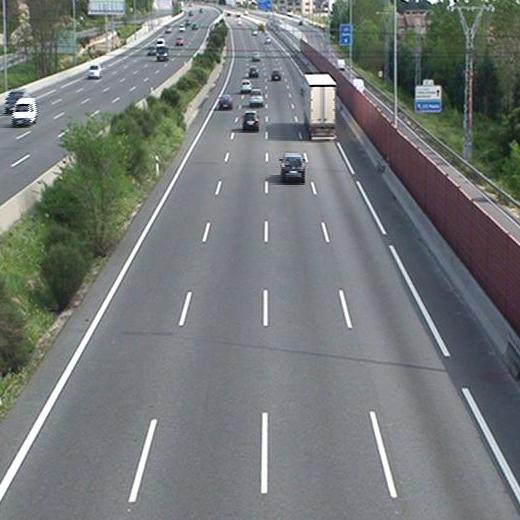car: (279, 153, 306, 181), (241, 111, 261, 132), (249, 90, 265, 106), (219, 95, 234, 111), (270, 69, 283, 83), (239, 79, 252, 92), (248, 66, 260, 77), (251, 51, 261, 63)
truck: (300, 71, 339, 141)
